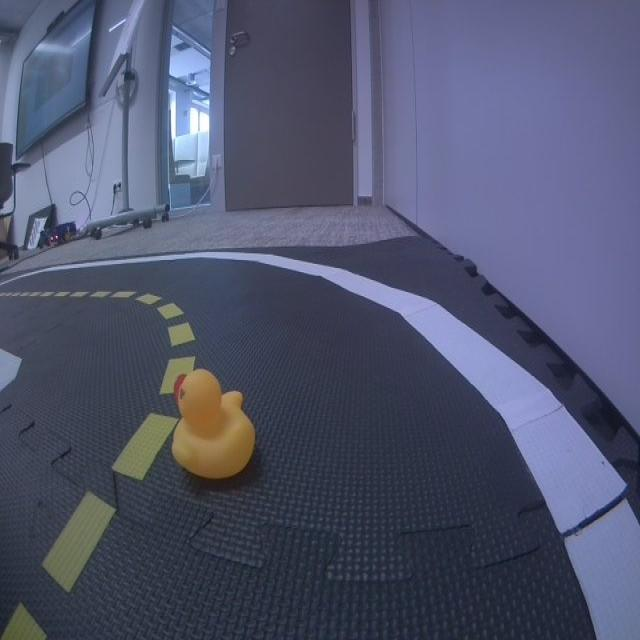duckie: (170, 368, 257, 480)
